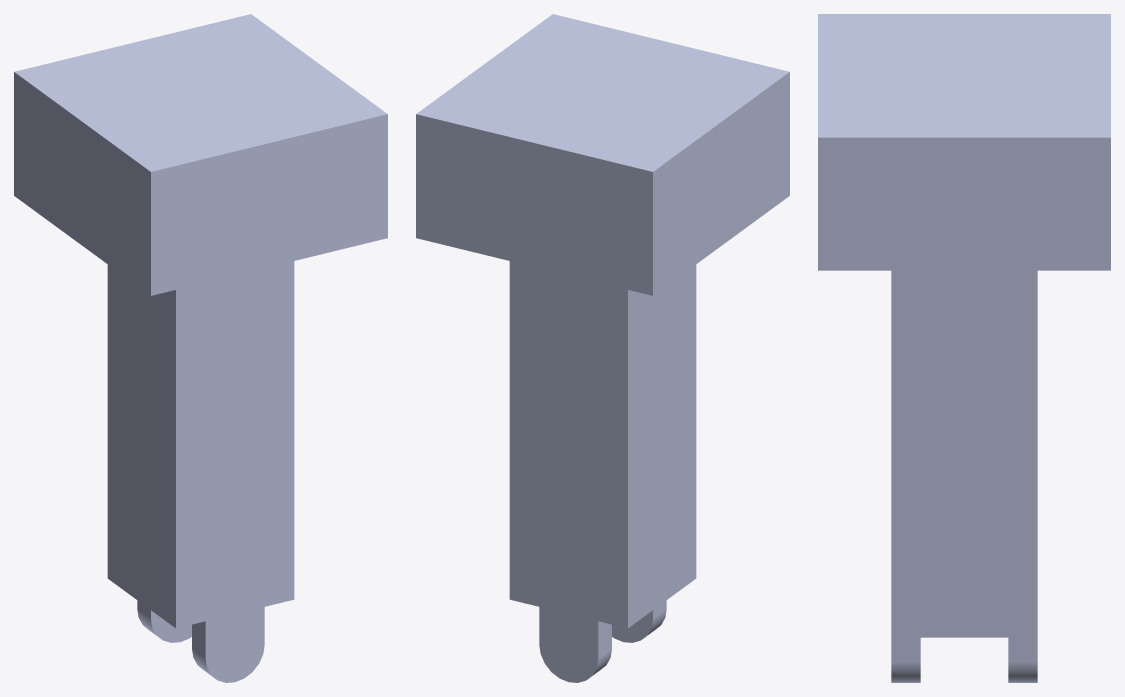
Rendered from beam_base1.obj.
The picture shows the model from 3 angles, left to right: view 1: azimuth 30°, elevation 25°; view 2: azimuth 150°, elevation 25°; view 3: azimuth 270°, elevation 25°; orthographic projection. The views are drawn at different scales.
Parts seen in each view (by area): view 1: mesh 1 beam_base1; view 2: mesh 1 beam_base1; view 3: mesh 1 beam_base1.
Part boxes in pixels (x1,y1,x2,y2): mesh 1 beam_base1: (14,14,387,682); mesh 1 beam_base1: (416,14,789,682); mesh 1 beam_base1: (818,14,1110,682).
Size of the model in its own units: 0.02 by 0.0455 by 0.02.
